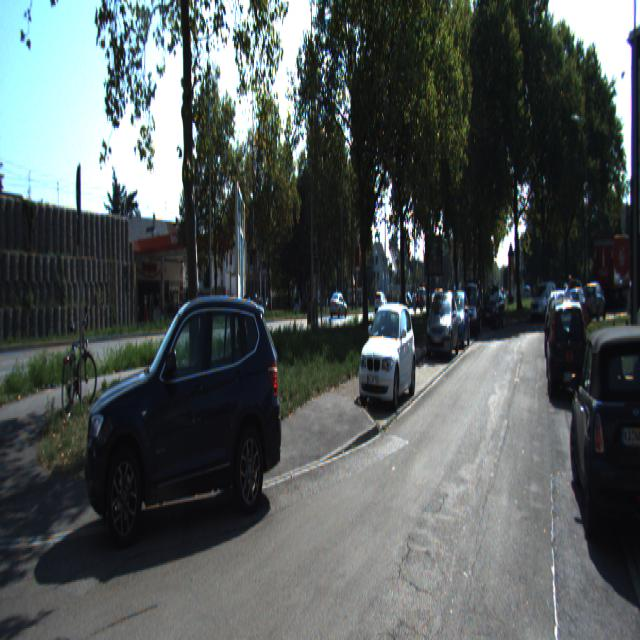Car: (75, 276, 290, 556), (568, 294, 640, 542), (355, 300, 418, 413), (545, 292, 591, 398), (426, 289, 460, 363), (444, 288, 472, 347)
